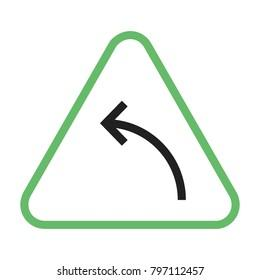Left hand curve: (18, 33, 242, 228)
